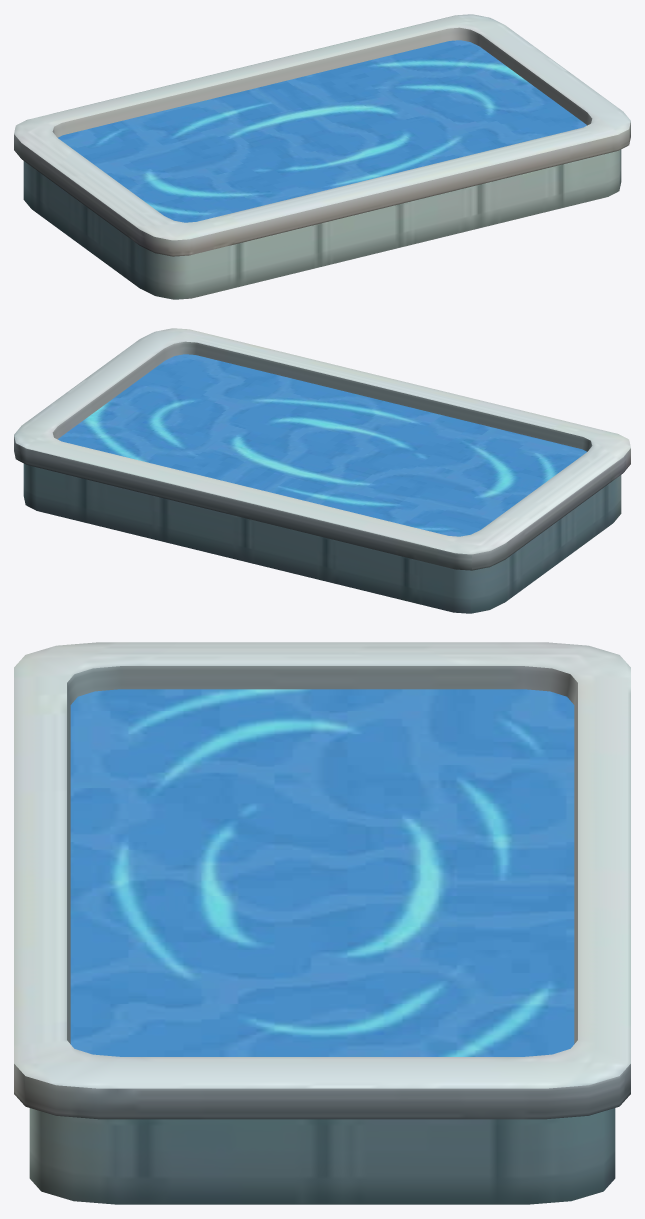
3 views of the same model, one above another, from view 1: azimuth 30°, elevation 25°; view 2: azimuth 150°, elevation 25°; view 3: azimuth 270°, elevation 25° (orthographic). The views are drawn at different scales.
Visible parts, largest first — view 1: SM_yugang; view 2: SM_yugang; view 3: SM_yugang.
Part boxes in pixels (box(x1,y1,x2,y2)): SM_yugang: box(14, 14, 630, 299); SM_yugang: box(14, 328, 630, 613); SM_yugang: box(14, 642, 630, 1204).
Size of the model in its own units: 541 by 70.48 by 316.
